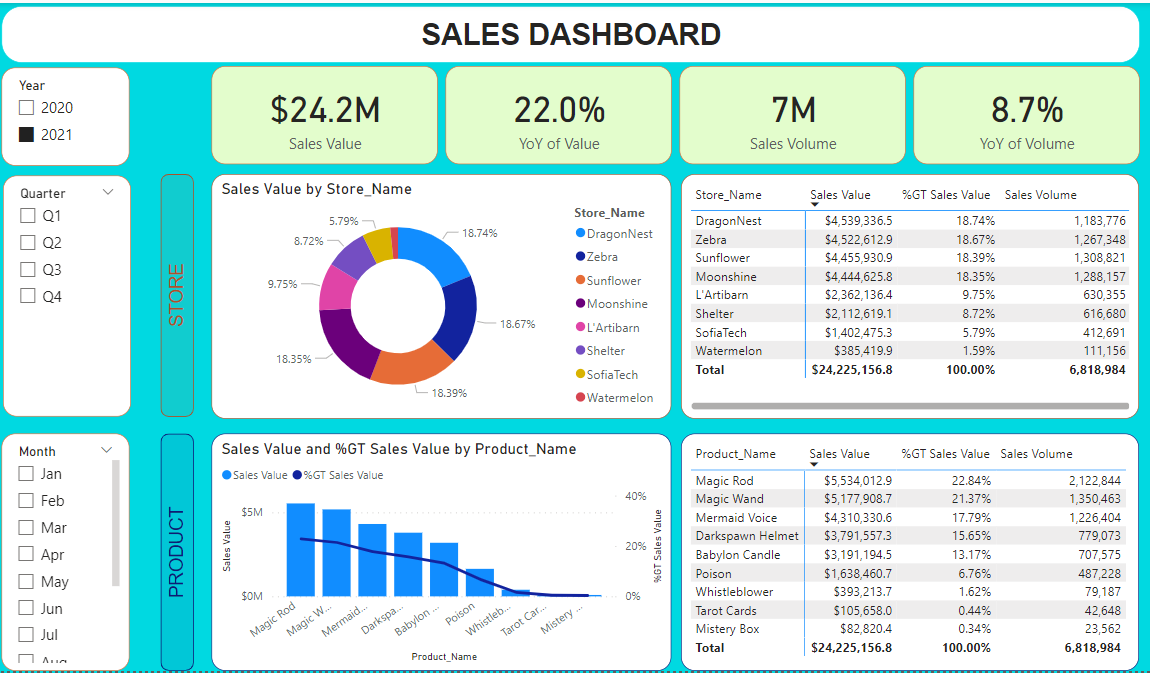

Layout of this report page (visuals, bound fields, positions):
{"tool":"powerbi","page":{"name":"aksziii Inc. - Sales Dashboard","canvas":[1280,720],"ordinal":0},"visuals":[{"type":"card","fields":{"Values":["FACT_Sales_Data.Sales Value"]},"box":[258,68,244,106],"z":0},{"type":"slicer","fields":{"Values":["Calendar.Year"]},"box":[30,70,138,106],"z":1000},{"type":"slicer","fields":{"Values":["Calendar.Month"]},"box":[30,464,138,256],"z":2000},{"type":"slicer","fields":{"Values":["Calendar.Quarter"]},"box":[32,186,138,260],"z":3000},{"type":"card","fields":{"Values":["Table.YoY of Value"]},"box":[510,68,244,106],"z":4000},{"type":"card","fields":{"Values":["FACT_Sales_Data.Sales Volume"]},"box":[762,68,244,106],"z":5000},{"type":"pivotTable","fields":{"Rows":["Point_of_Sales.Store_Name"],"Values":["FACT_Sales_Data.Sales Value","Divide(FACT_Sales_Data.Sales Value, ScopedEval(FACT_Sales_Data.Sales Value, []))","FACT_Sales_Data.Sales Volume"]},"box":[764,184,494,264],"z":6000},{"type":"donutChart","fields":{"Category":["Point_of_Sales.Store_Name"],"Y":["FACT_Sales_Data.Sales Value"]},"box":[258,184,496,264],"z":7000},{"type":"pivotTable","fields":{"Rows":["Product.Product_Name"],"Values":["FACT_Sales_Data.Sales Value","Divide(FACT_Sales_Data.Sales Value, ScopedEval(FACT_Sales_Data.Sales Value, []))","FACT_Sales_Data.Sales Volume"]},"box":[764,464,494,256],"z":8000},{"type":"lineStackedColumnComboChart","fields":{"Category":["Product.Product_Name"],"Y":["FACT_Sales_Data.Sales Value"],"Y2":["Divide(FACT_Sales_Data.Sales Value, ScopedEval(FACT_Sales_Data.Sales Value, []))"]},"box":[258,464,496,256],"z":9000},{"type":"card","fields":{"Values":["Table.YoY of Volume"]},"box":[1014,68,244,106],"z":10000},{"type":"textbox","box":[30.8,3.1,1227.7,61.5],"z":12000},{"type":"shape","box":[202,184,36,262],"z":13000},{"type":"shape","box":[202,464,36,256],"z":14000}]}

Visuals, with their boxes in screenshot pixels (x1, y1, x2, y2):
card - FACT_Sales_Data.Sales Value: Rect(210, 62, 434, 160)
slicer - Calendar.Year: Rect(1, 64, 127, 162)
slicer - Calendar.Month: Rect(1, 426, 127, 661)
slicer - Calendar.Quarter: Rect(2, 171, 129, 410)
card - Table.YoY of Value: Rect(442, 62, 666, 160)
card - FACT_Sales_Data.Sales Volume: Rect(673, 62, 897, 160)
pivotTable - Point_of_Sales.Store_Name x FACT_Sales_Data.Sales Value: Rect(675, 169, 1129, 412)
donutChart - Point_of_Sales.Store_Name x FACT_Sales_Data.Sales Value: Rect(210, 169, 666, 412)
pivotTable - Product.Product_Name x FACT_Sales_Data.Sales Value: Rect(675, 426, 1129, 661)
lineStackedColumnComboChart - Product.Product_Name x FACT_Sales_Data.Sales Value: Rect(210, 426, 666, 661)
card - Table.YoY of Volume: Rect(904, 62, 1129, 160)
textbox: Rect(1, 3, 1129, 59)
shape: Rect(159, 169, 192, 410)
shape: Rect(159, 426, 192, 661)
